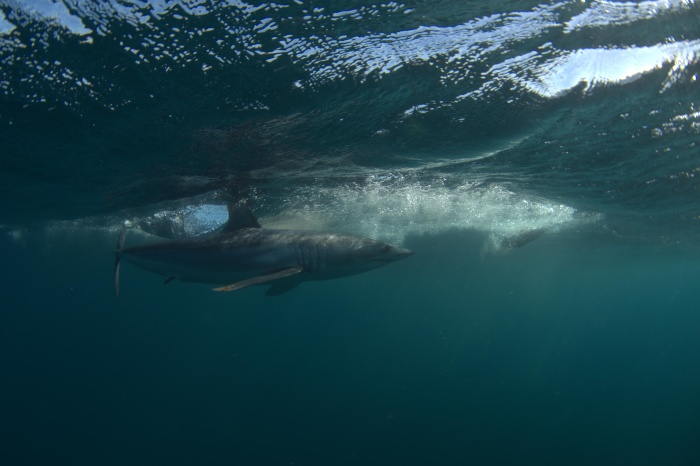Mako: (93, 188, 440, 323)
